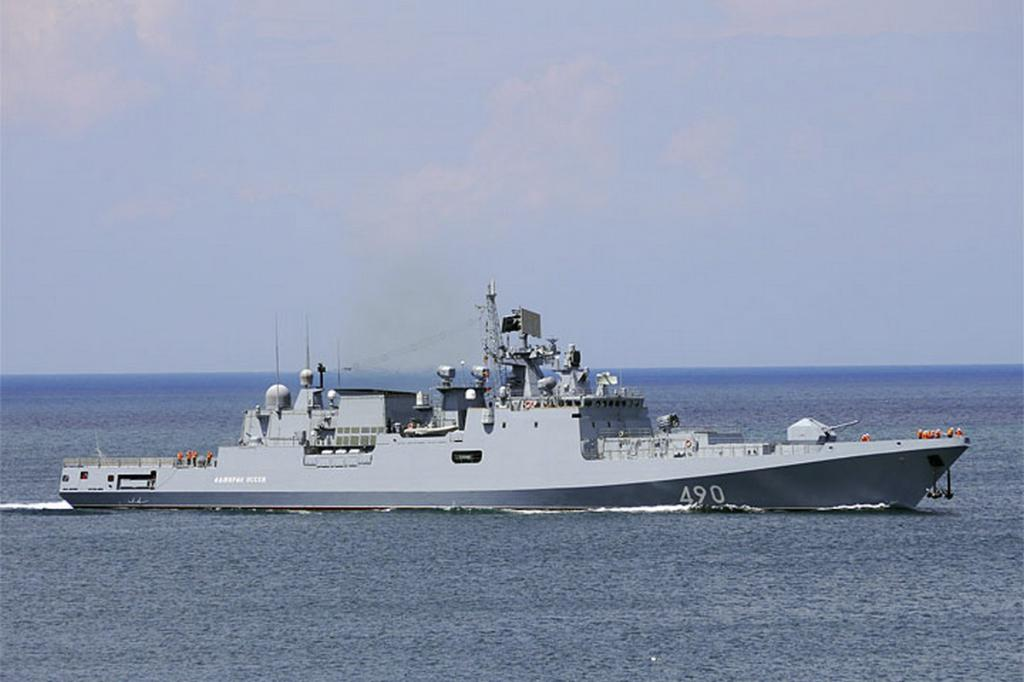Warship: (40, 288, 980, 526)
